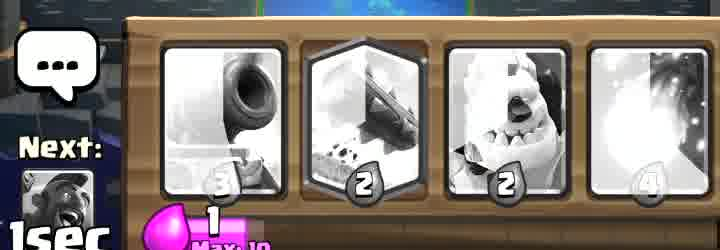hog-rider: (22, 169, 89, 232)
